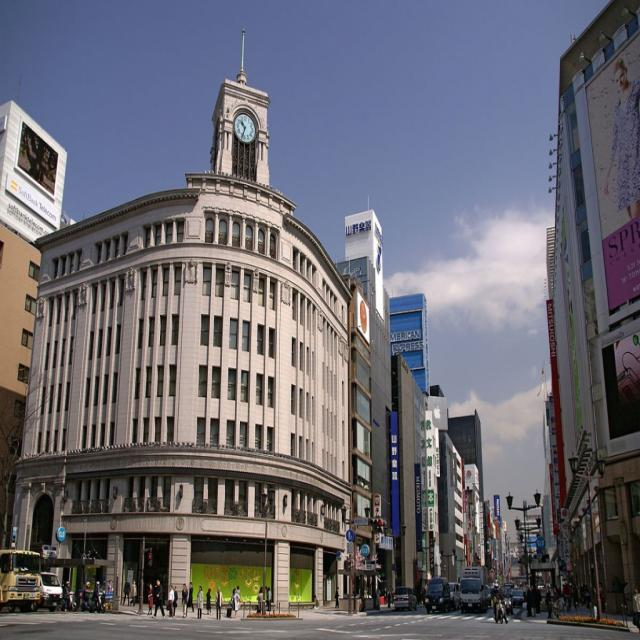body: (570, 580, 596, 615), (490, 581, 510, 625), (151, 580, 165, 618), (62, 580, 72, 613), (229, 586, 240, 616), (214, 585, 223, 621), (623, 581, 632, 617), (631, 587, 639, 625), (532, 581, 541, 614), (552, 584, 560, 619), (504, 585, 513, 616), (146, 582, 154, 616), (187, 580, 195, 614), (196, 584, 204, 618), (525, 584, 533, 618), (181, 582, 188, 619), (181, 585, 189, 617), (545, 584, 552, 619), (123, 576, 131, 606), (130, 578, 138, 608), (204, 586, 212, 616), (167, 583, 174, 617), (94, 581, 105, 602), (563, 581, 571, 608), (172, 584, 178, 616), (385, 585, 393, 609), (235, 584, 241, 612), (333, 585, 340, 609), (636, 589, 640, 627), (375, 586, 382, 605), (106, 580, 115, 594), (84, 581, 92, 594), (264, 585, 270, 602), (312, 594, 318, 608), (264, 585, 269, 594), (258, 586, 263, 594), (562, 582, 566, 592)
